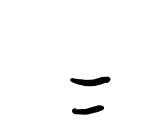eqv: (70, 77, 111, 115)
